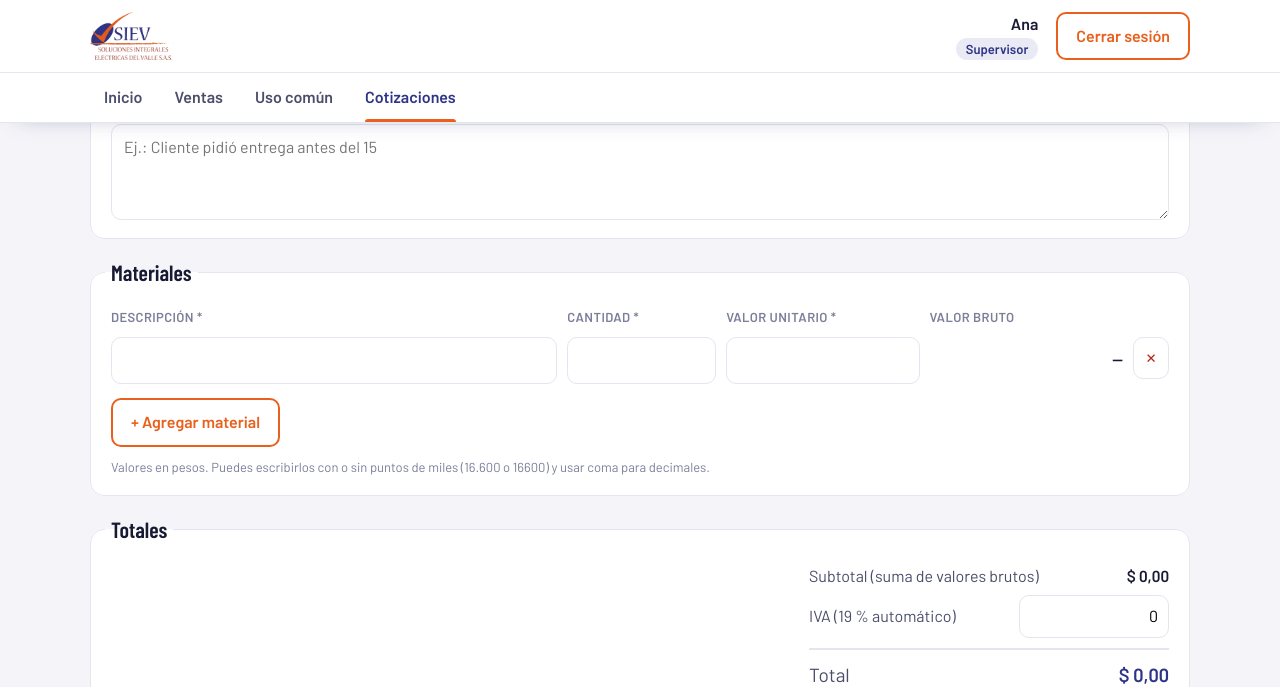
Test case: formulario de cotización › valida obligatorios y valores negativos antes de enviar
(page scrolled)
Type "-3" into the 2nd field named "Cantidad del material 1".
click(642, 361); type("-3")  # box [567, 337, 716, 384]
(page scrolled)
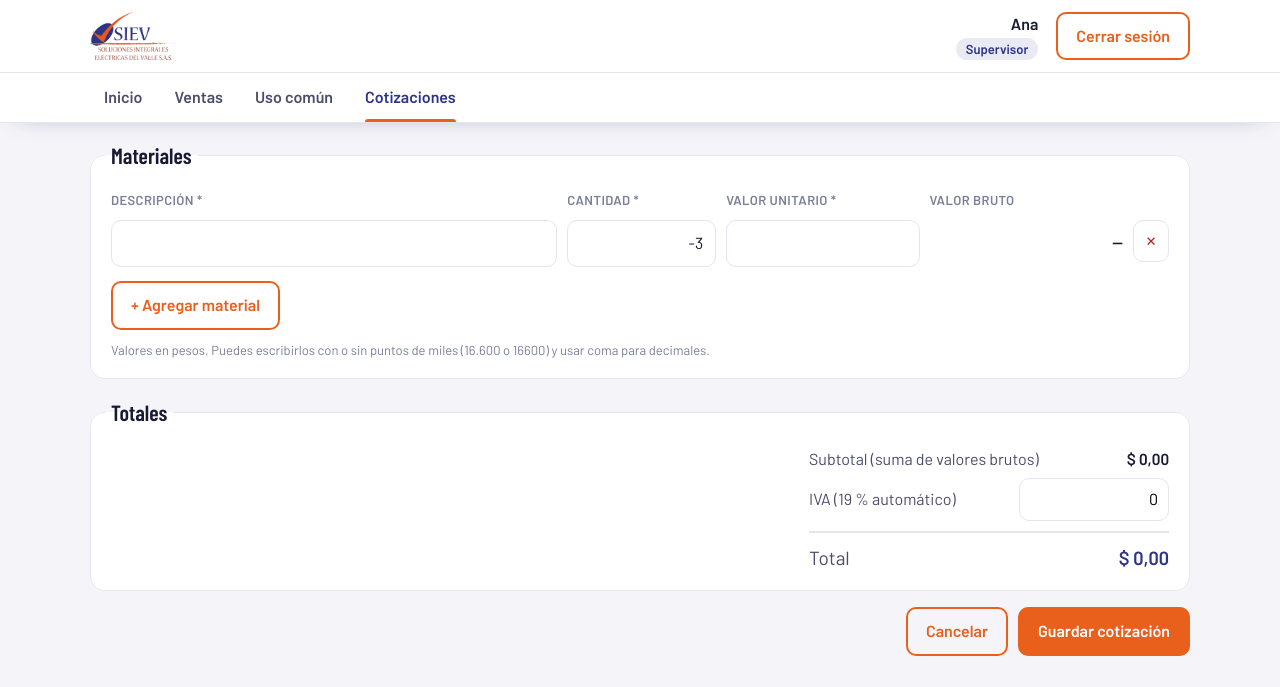
Click the button "Guardar cotización".
click(1104, 632)  # box [1018, 607, 1190, 656]
(page scrolled)
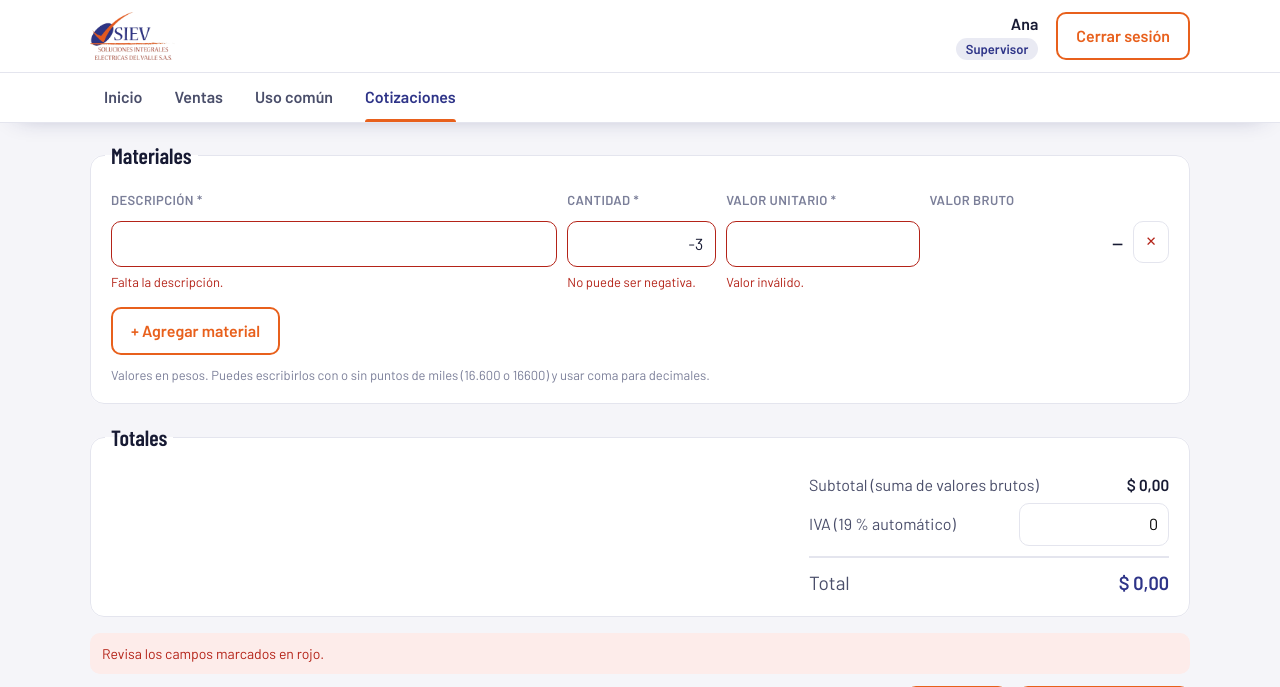
Now the text "Falta la descripción." is shown, box [111, 274, 223, 290]
Now the text "No puede ser negativa." is shown, box [567, 272, 716, 292]
